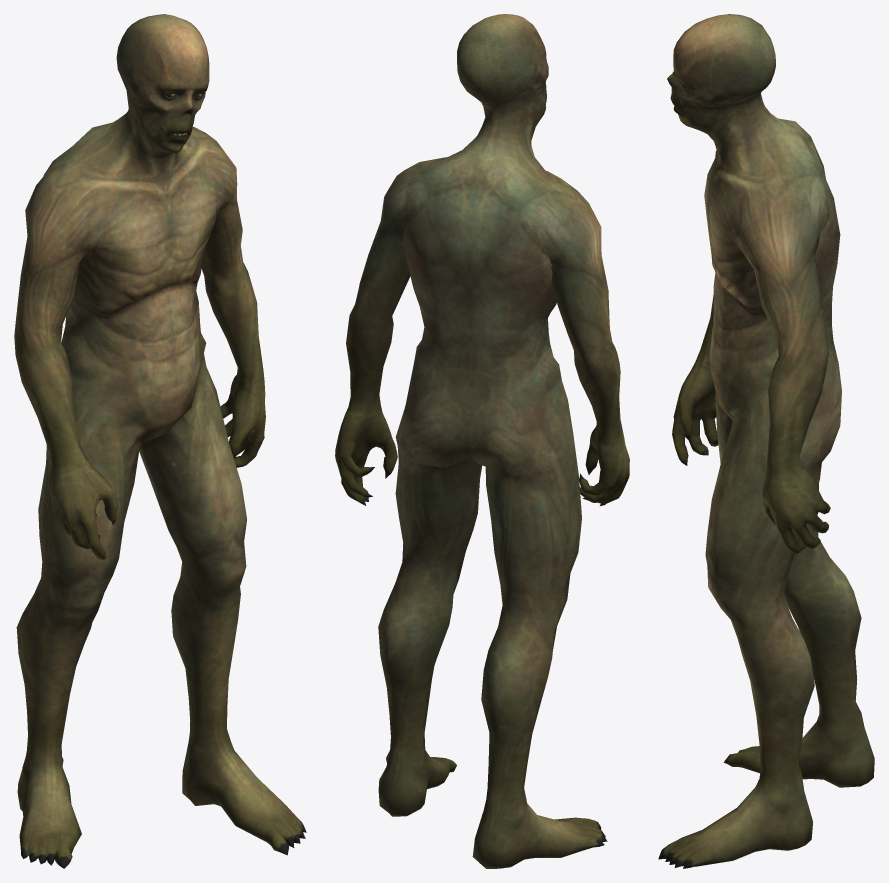
File: ghoul.obj
The picture shows the model from 3 angles, left to right: view 1: azimuth 30°, elevation 25°; view 2: azimuth 150°, elevation 25°; view 3: azimuth 270°, elevation 25°; orthographic projection. The views are drawn at different scales.
Parts seen in each view (by area): view 1: mesh_Mesh; view 2: mesh_Mesh; view 3: mesh_Mesh.
Part boxes in pixels (x1,y1,x2,y2): mesh_Mesh: (14, 14, 306, 868); mesh_Mesh: (335, 14, 629, 868); mesh_Mesh: (658, 14, 874, 868).
Size of the model in its own units: 0.6089 by 1.84 by 0.4505.
